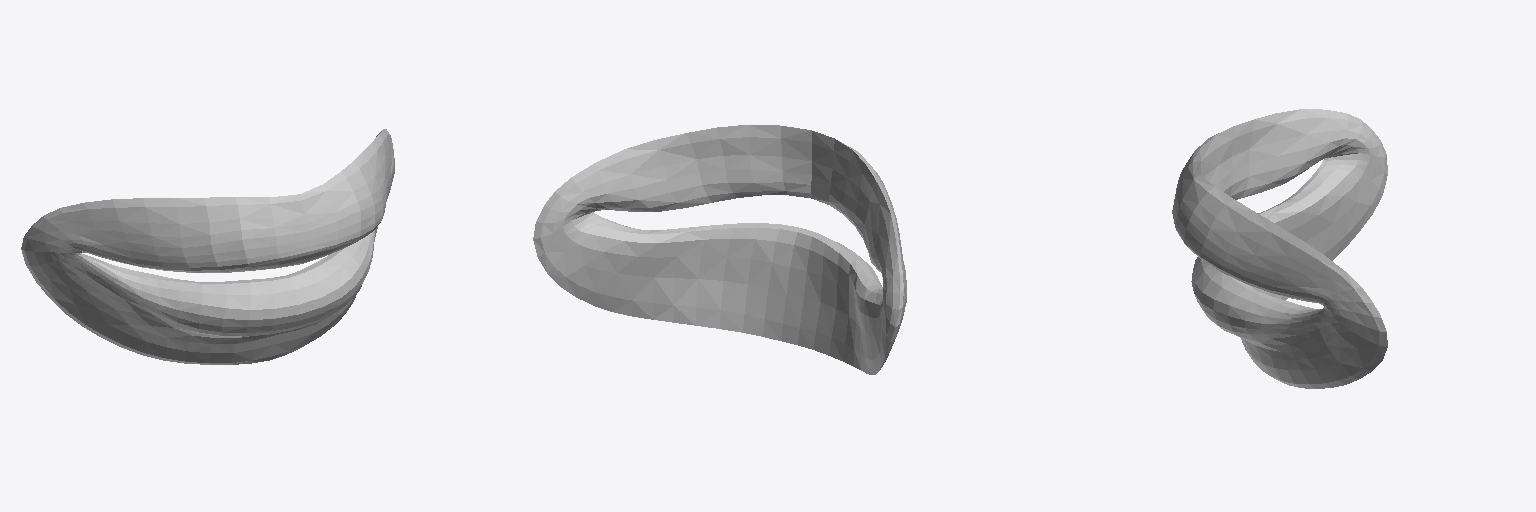
File: orbicularis_oris.obj
3 renders of one model, left to right at view 1: azimuth 30°, elevation 25°; view 2: azimuth 150°, elevation 25°; view 3: azimuth 270°, elevation 25°, orthographic.
Parts seen in each view (by area): view 1: Orbicularis_Oris_Muscle; view 2: Orbicularis_Oris_Muscle; view 3: Orbicularis_Oris_Muscle.
Boxes of the visible parts, x1,y1,x2,y2 form: Orbicularis_Oris_Muscle: [21, 129, 394, 364]; Orbicularis_Oris_Muscle: [533, 125, 906, 374]; Orbicularis_Oris_Muscle: [1172, 109, 1387, 388].
Bounding box in the file's own units: 0.7554 × 0.3776 × 0.3883.